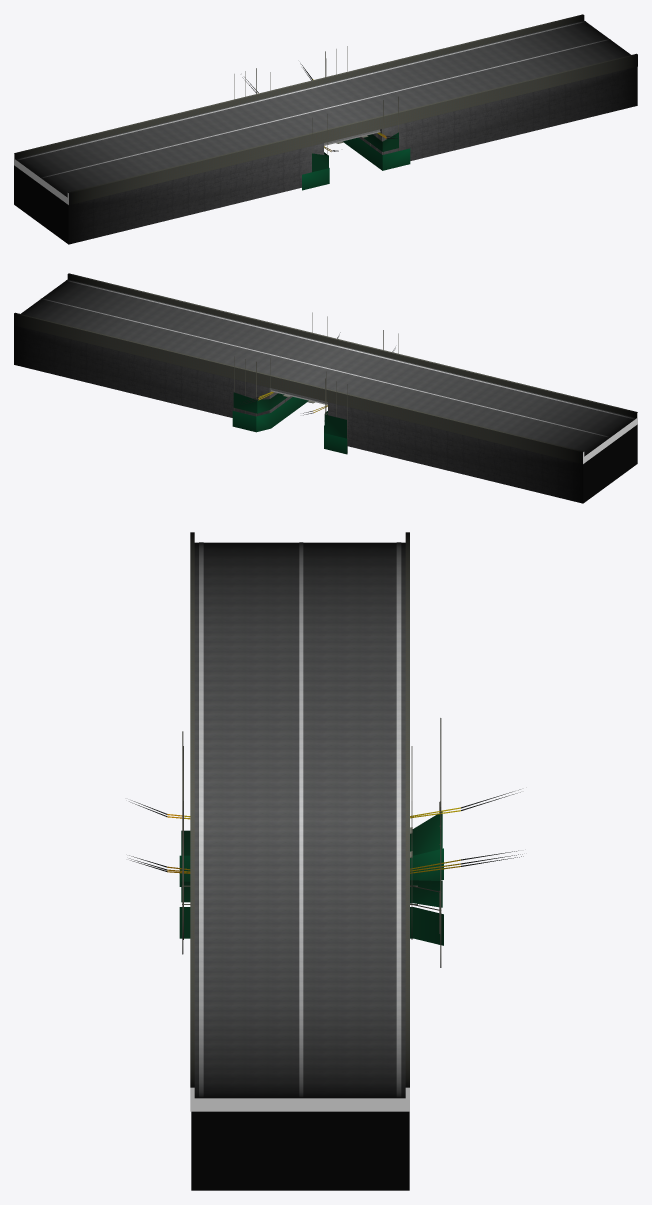
Rendered from FUKAKUSA_BURIDGE.glb.
3 views of the same model, one above another, from view 1: azimuth 30°, elevation 25°; view 2: azimuth 150°, elevation 25°; view 3: azimuth 270°, elevation 25° (orthographic). The views are drawn at different scales.
Visible parts, largest first — view 1: fukakusa_rikkyo; view 2: fukakusa_rikkyo; view 3: fukakusa_rikkyo.
Part boxes in pixels (bbox=[...]): fukakusa_rikkyo: bbox=[14, 14, 637, 244]; fukakusa_rikkyo: bbox=[14, 273, 637, 503]; fukakusa_rikkyo: bbox=[129, 532, 523, 1190].
Size of the model in its own units: 300 by 35.14 by 92.36.
Materials: 9 (9 with a texture image).
